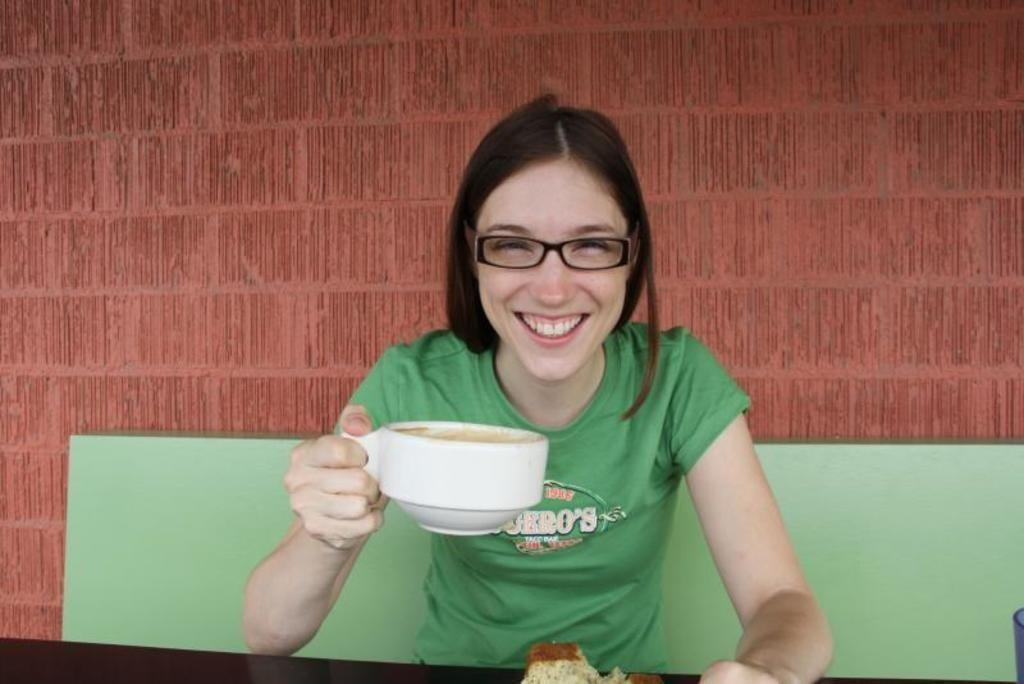cup-handle: (340, 420, 550, 537)
